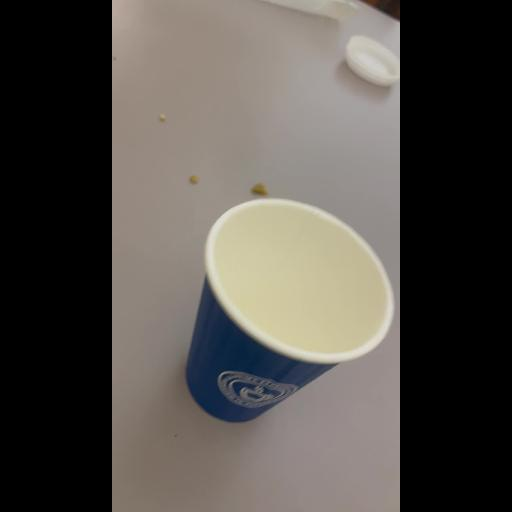lp_paper_cup: (174, 186, 398, 422)
